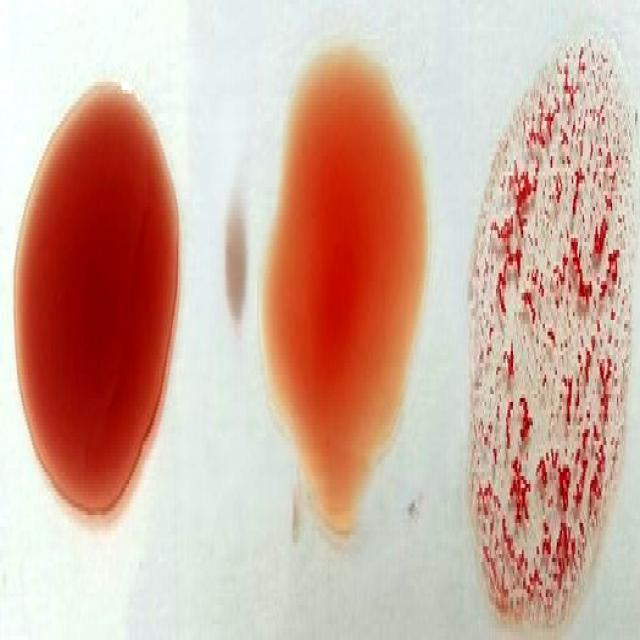D: (477, 47, 629, 640)
